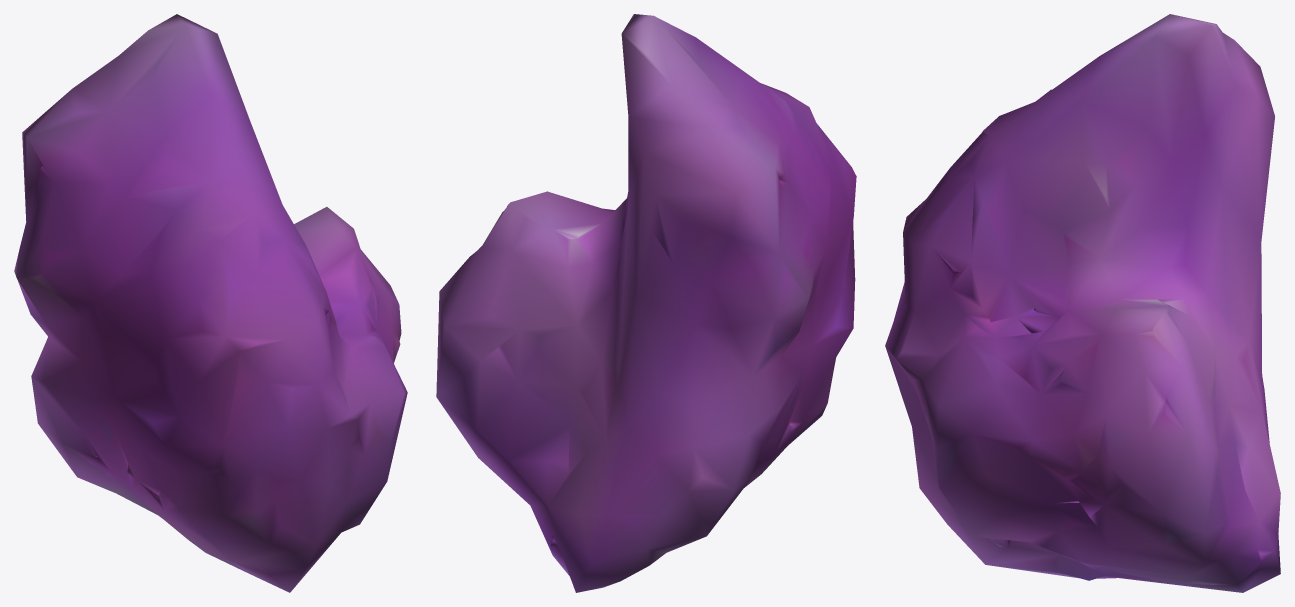
File: fragmento_la.glb
The picture shows the model from 3 angles, left to right: view 1: azimuth 30°, elevation 25°; view 2: azimuth 150°, elevation 25°; view 3: azimuth 270°, elevation 25°; orthographic projection. The views are drawn at different scales.
Bounding box in the file's own units: 0.6979 × 0.9903 × 0.6357.
